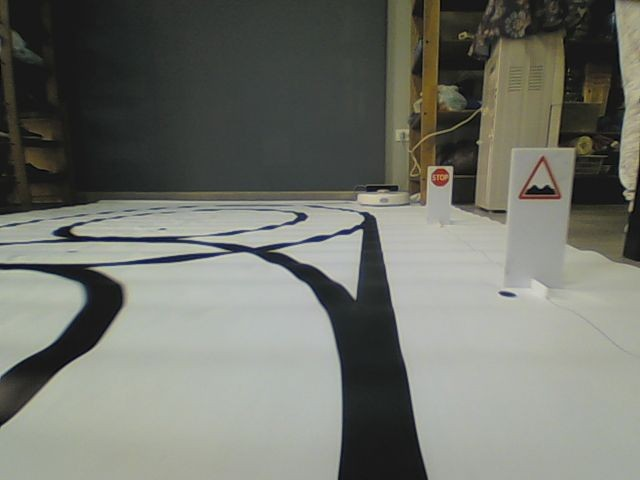Stop: (431, 167, 449, 186)
